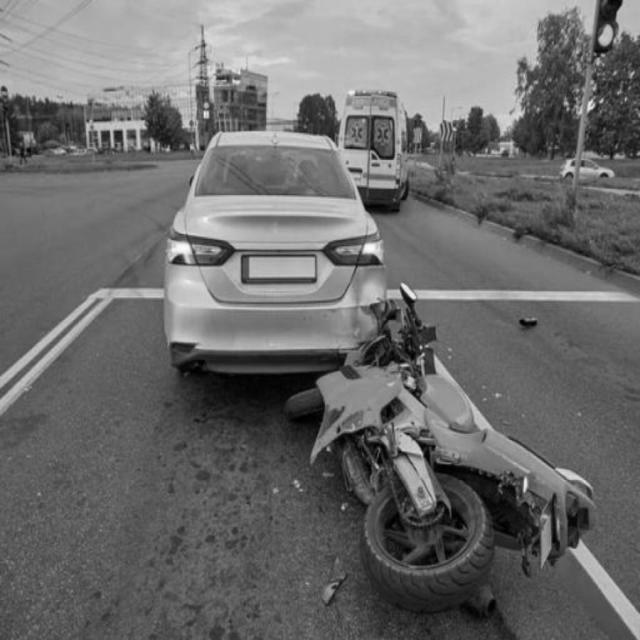accident: (167, 135, 599, 609)
vehicle: (341, 89, 414, 213)
